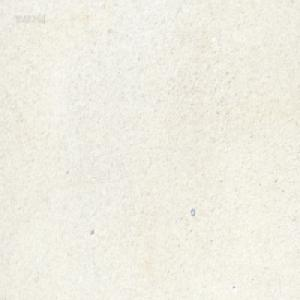Washer: (190, 207, 195, 216)
